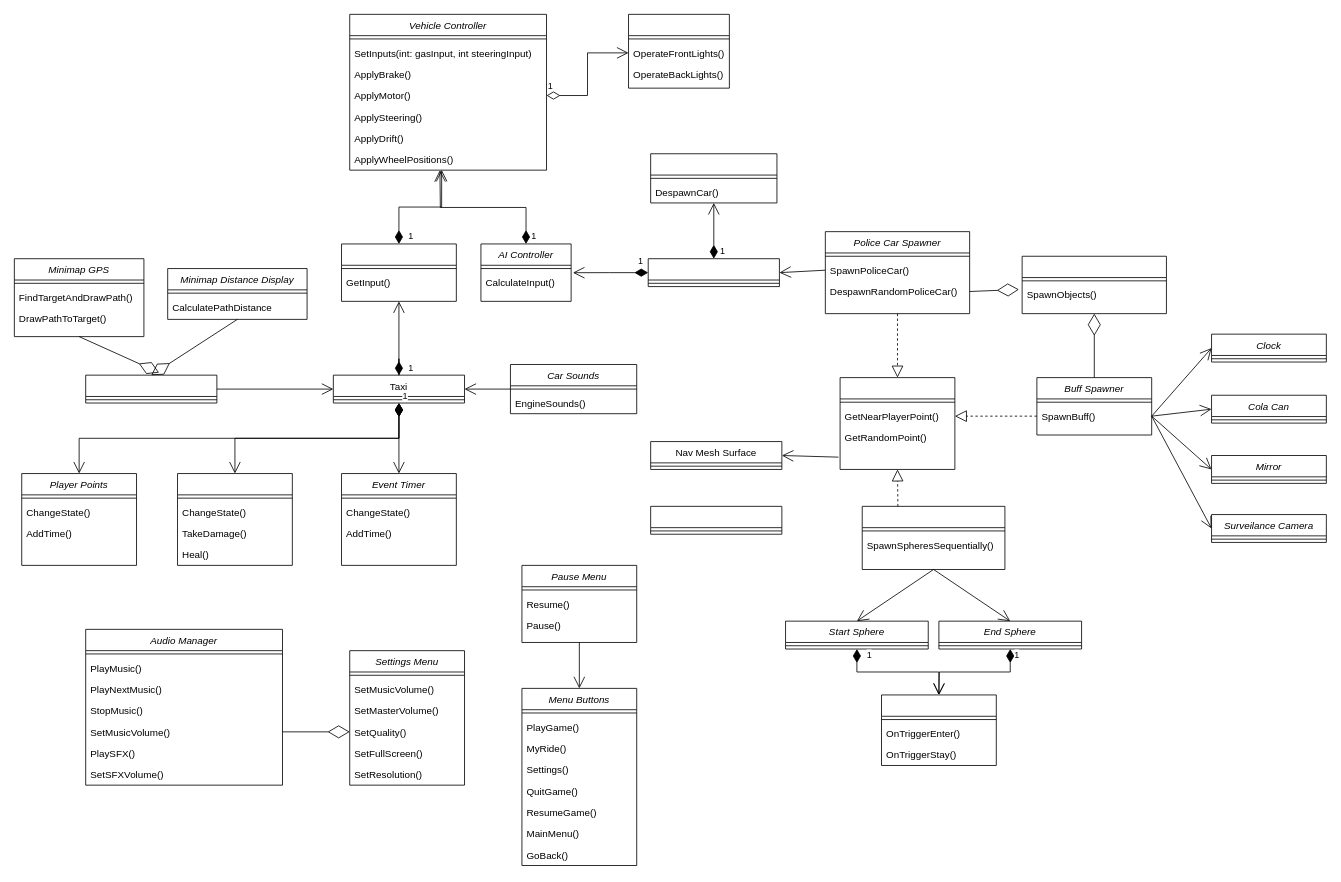
The diagram is 1341 pixels wide and 882 high, and some of its shapes have lost their labels. Here are the shapes that lost their labels. From the top down, the box of each, then its label:
(628, 14, 729, 88): Car Lights
(650, 153, 777, 203): Police Car Despawner
(341, 243, 456, 301): Player Controller
(647, 258, 779, 287): Police Car
(1021, 255, 1166, 314): Event Spawner
(85, 374, 217, 403): Minimap Camera
(839, 377, 955, 469): Random Road Point
(177, 473, 292, 565): Player Comfort
(650, 506, 782, 534): Night City
(861, 506, 1005, 569): Sphere Spawner
(881, 694, 996, 765): Timer Sphere Trigger
